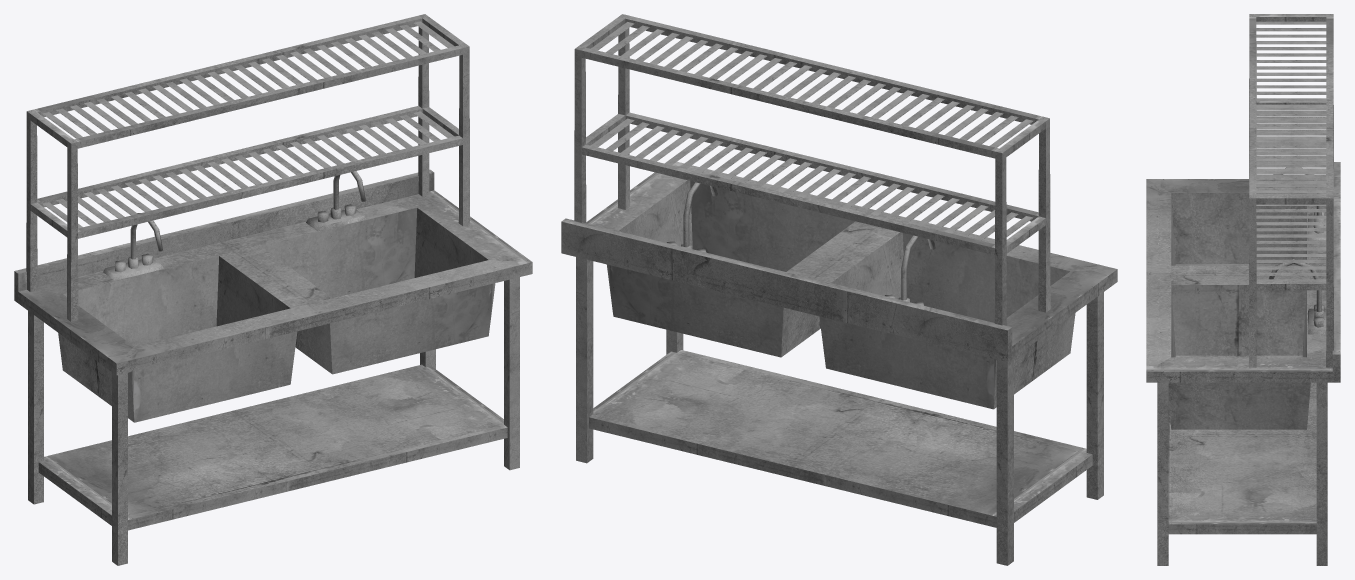
Rendered from Table_M_01.dae.
The picture shows the model from 3 angles, left to right: view 1: azimuth 30°, elevation 25°; view 2: azimuth 150°, elevation 25°; view 3: azimuth 270°, elevation 25°; orthographic projection. The views are drawn at different scales.
Visible parts, largest first — view 1: Table_M_01; view 2: Table_M_01; view 3: Table_M_01.
Part boxes in pixels (x1,y1,x2,y2): Table_M_01: (14, 14, 532, 565); Table_M_01: (561, 14, 1117, 565); Table_M_01: (1146, 14, 1340, 565).
Bounding box in the file's own units: 2.07 × 0.8813 × 1.84.
2 materials, 2 textured.
